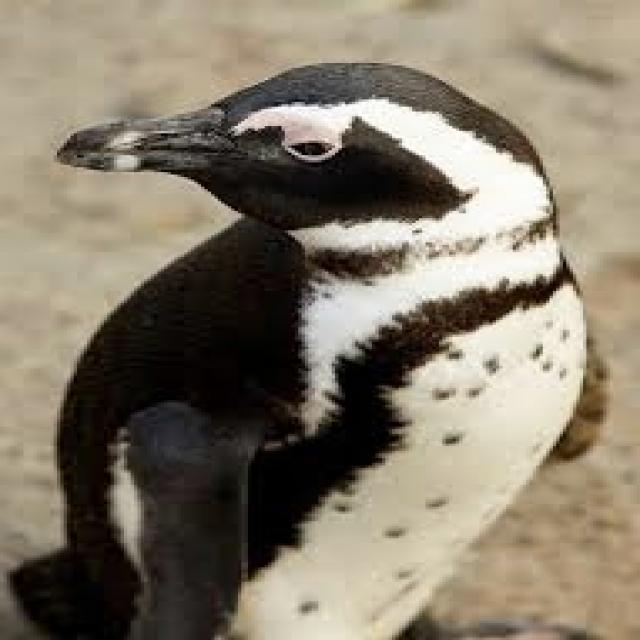penguin: (13, 63, 606, 638)
